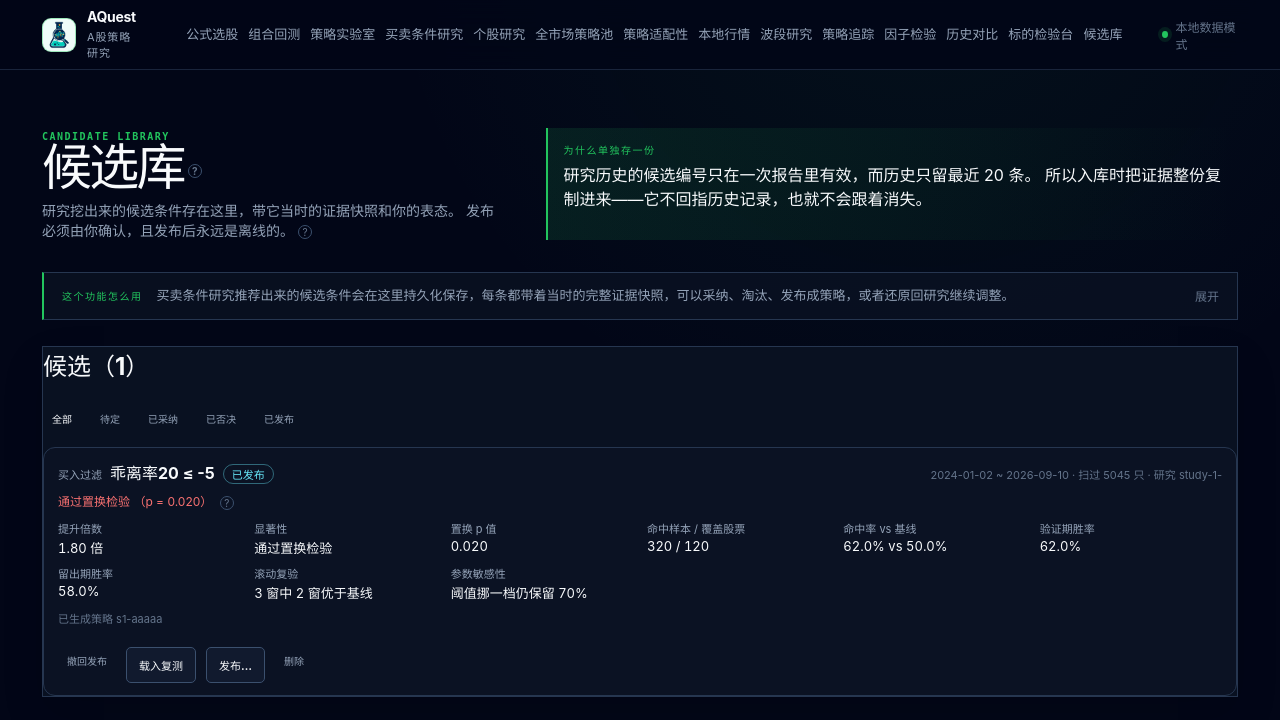
Test: CandidateLibraryPage › withdraws a publication and says the strategy went with it
The image size is (1280, 720).
Click the button with test id "candidate-action-adopted-c1" at [87, 661], box [58, 644, 116, 678]
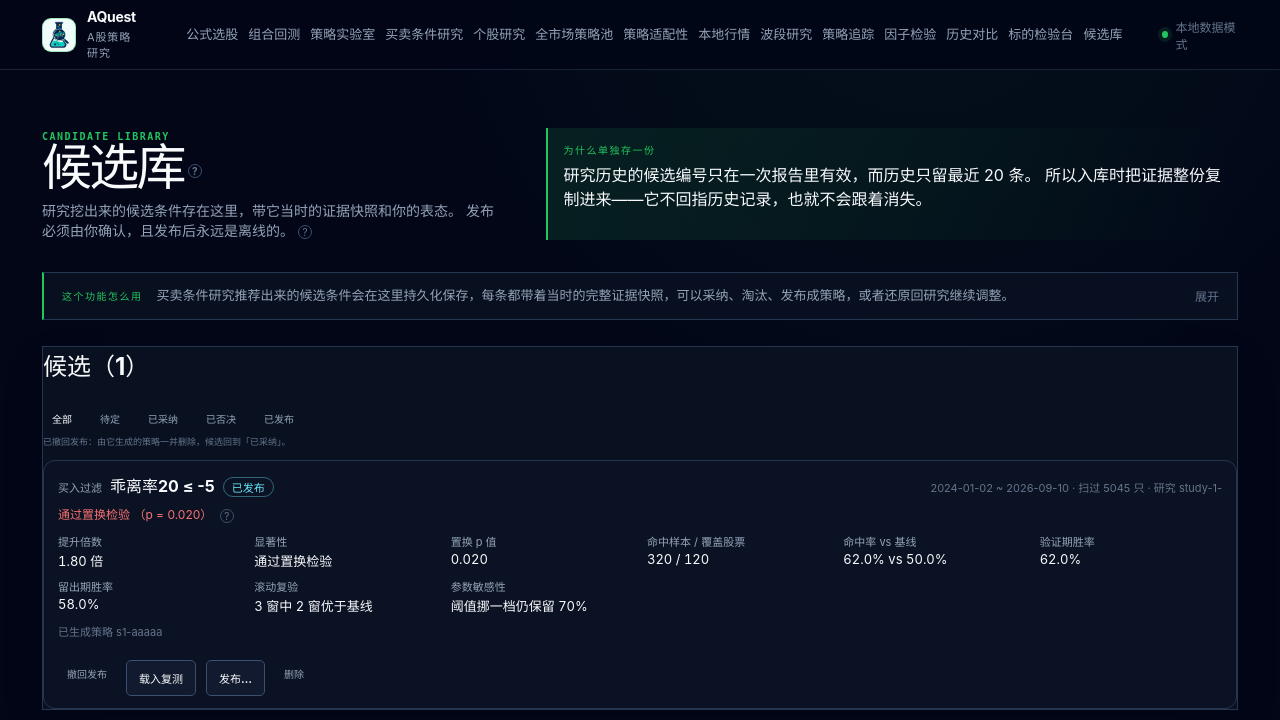
Expected: the text with test id "candidate-message" shows "撤回发布", [43, 436, 290, 447]
